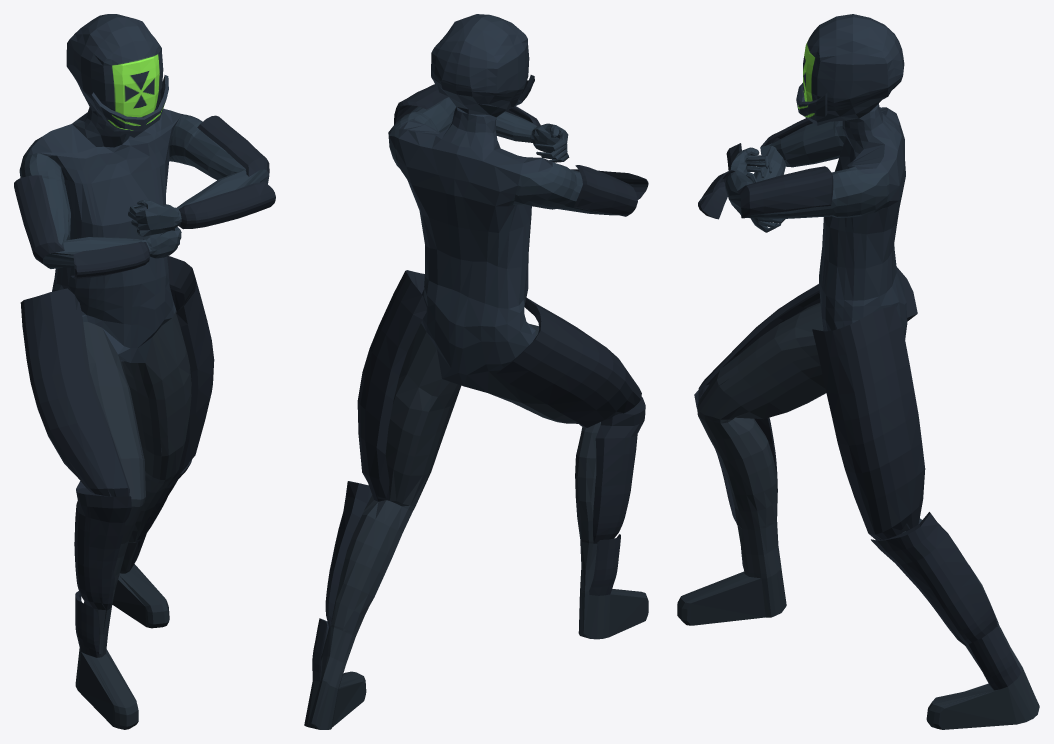
Rendered from Bastion_WF_000023.obj.
3 renders of one model, left to right at view 1: azimuth 30°, elevation 25°; view 2: azimuth 150°, elevation 25°; view 3: azimuth 270°, elevation 25°, orthographic.
Visible parts, largest first — view 1: Cube.002; view 2: Cube.002; view 3: Cube.002.
Part boxes in pixels (box(x1,y1,x2,y2)): Cube.002: box(14, 14, 275, 729); Cube.002: box(304, 14, 648, 729); Cube.002: box(677, 14, 1039, 729).
Size of the model in its own units: 1.32 by 3.68 by 1.81.
